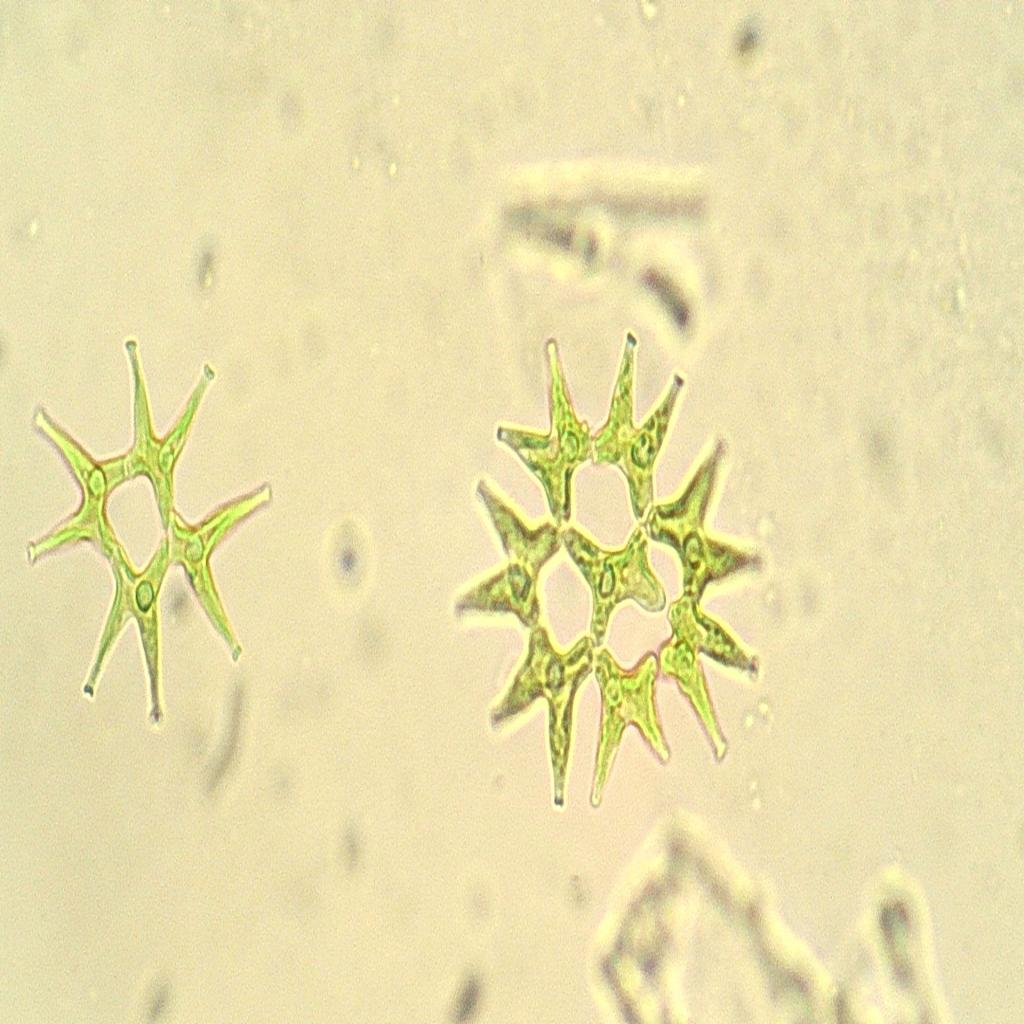Pediastrum_1T: (428, 306, 779, 836)
